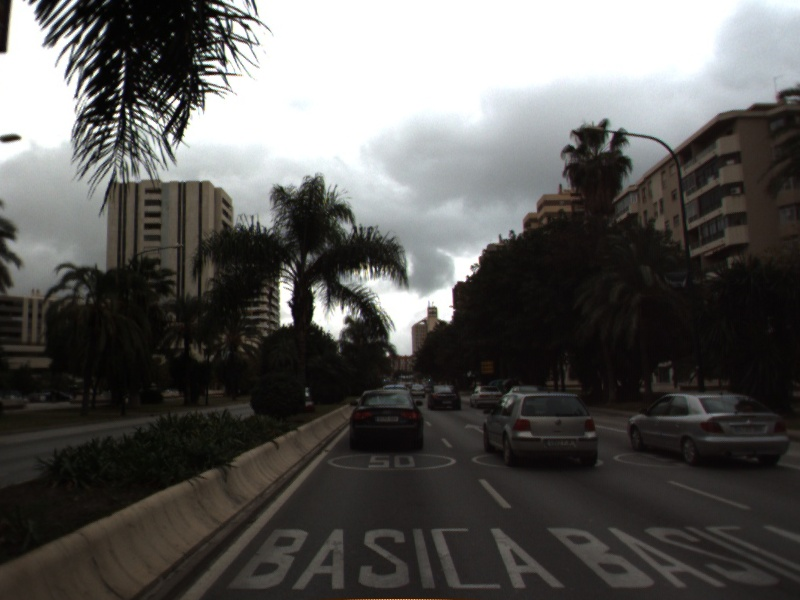STRAIGHT: (463, 421, 486, 435)
